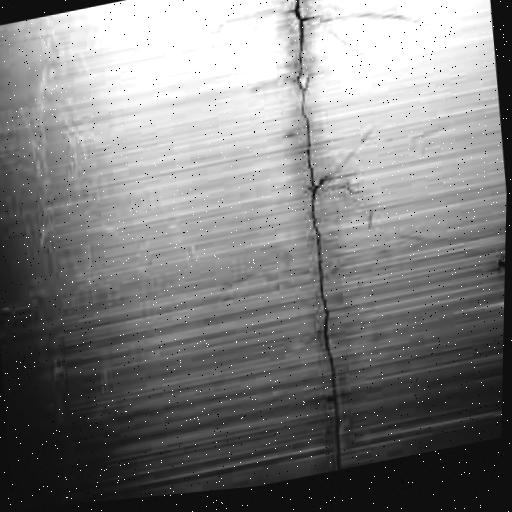crack: (258, 0, 364, 480)
